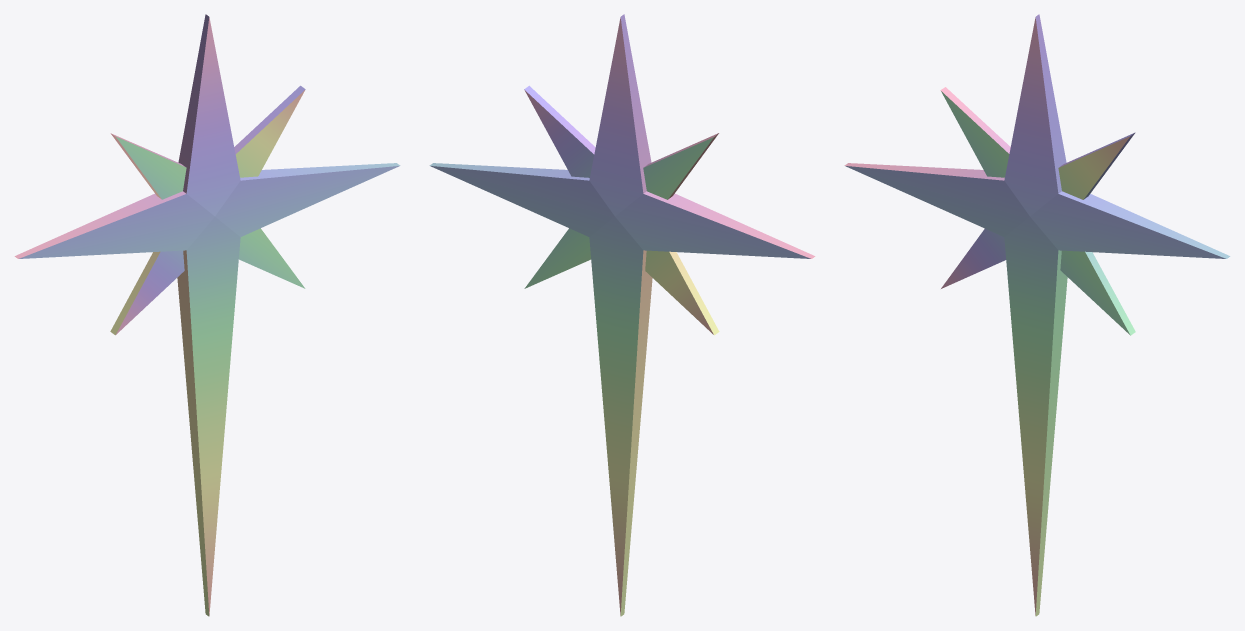
The model's file is 8Star.fbx.
The picture shows the model from 3 angles, left to right: view 1: azimuth 30°, elevation 25°; view 2: azimuth 150°, elevation 25°; view 3: azimuth 330°, elevation 25°; orthographic projection.
Parts seen in each view (by area): view 1: 8Star; view 2: 8Star; view 3: 8Star.
Boxes of the visible parts, <box> form: 8Star: <box>14,14,400,616</box>; 8Star: <box>429,14,815,616</box>; 8Star: <box>844,14,1230,616</box>.
Bounding box in the file's own units: 4.95 × 0.3368 × 7.43.
Materials: 1 (1 with a texture image).
